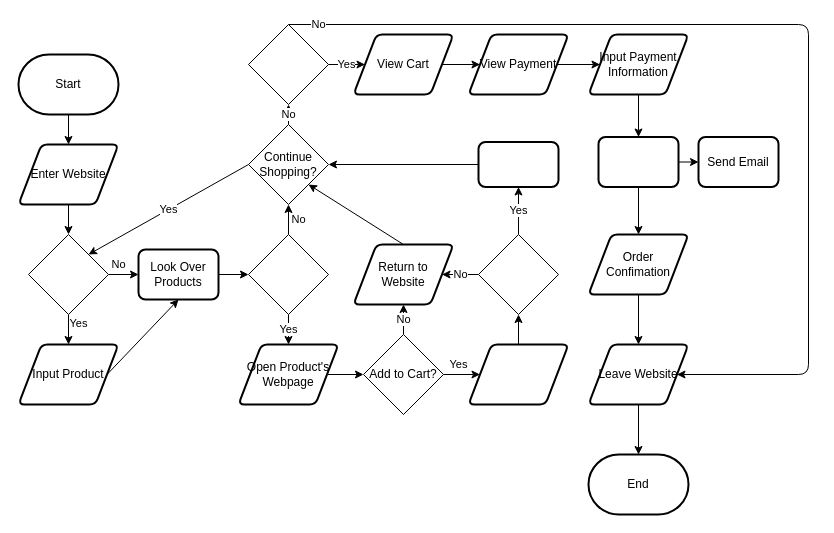
Image size: 834x533. Some labels were removed from this diagram. The centre of each missing label's shape, as x and y in pixels:
Added to Cart Confirmation: point (518, 374)
Checkout?: point (288, 64)
Confirm to Cart?: point (518, 274)
Process Payment: point (638, 162)
Search for Product?: point (68, 274)
Succesfully Add to Cart: point (518, 164)
View Specific Product?: point (288, 274)
